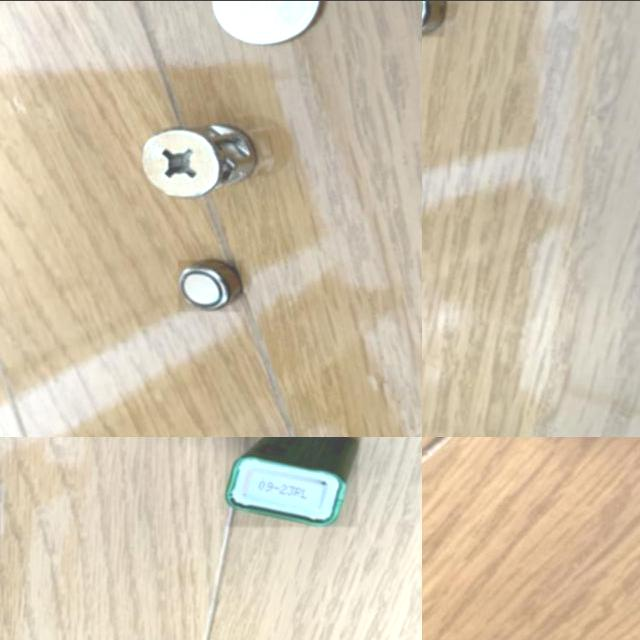9V: (226, 436, 358, 526)
